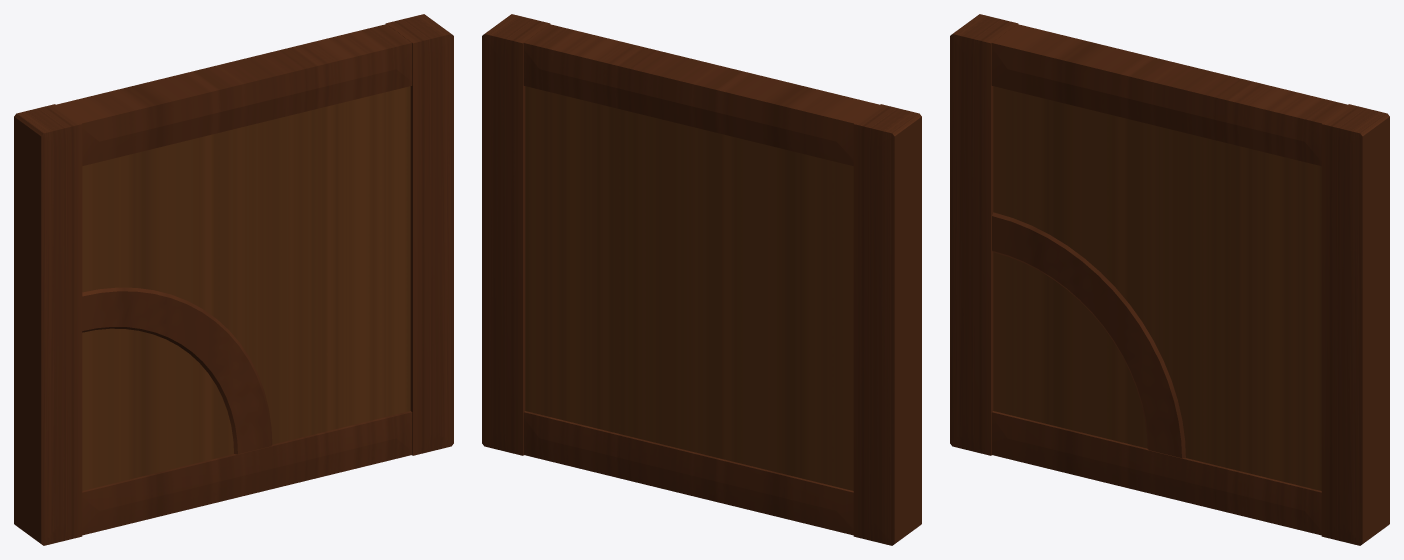
Rendered from Wall_Curve_Wood.fbx.
The picture shows the model from 3 angles, left to right: view 1: azimuth 30°, elevation 25°; view 2: azimuth 150°, elevation 25°; view 3: azimuth 330°, elevation 25°; orthographic projection.
Visible parts, largest first — view 1: Wall_Curve_Wood; view 2: Wall_Curve_Wood; view 3: Wall_Curve_Wood.
Part boxes in pixels (x1,y1,x2,y2): Wall_Curve_Wood: (14, 14, 453, 545); Wall_Curve_Wood: (482, 14, 921, 545); Wall_Curve_Wood: (950, 14, 1389, 545).
Size of the model in its own units: 212 by 202 by 26.17.
